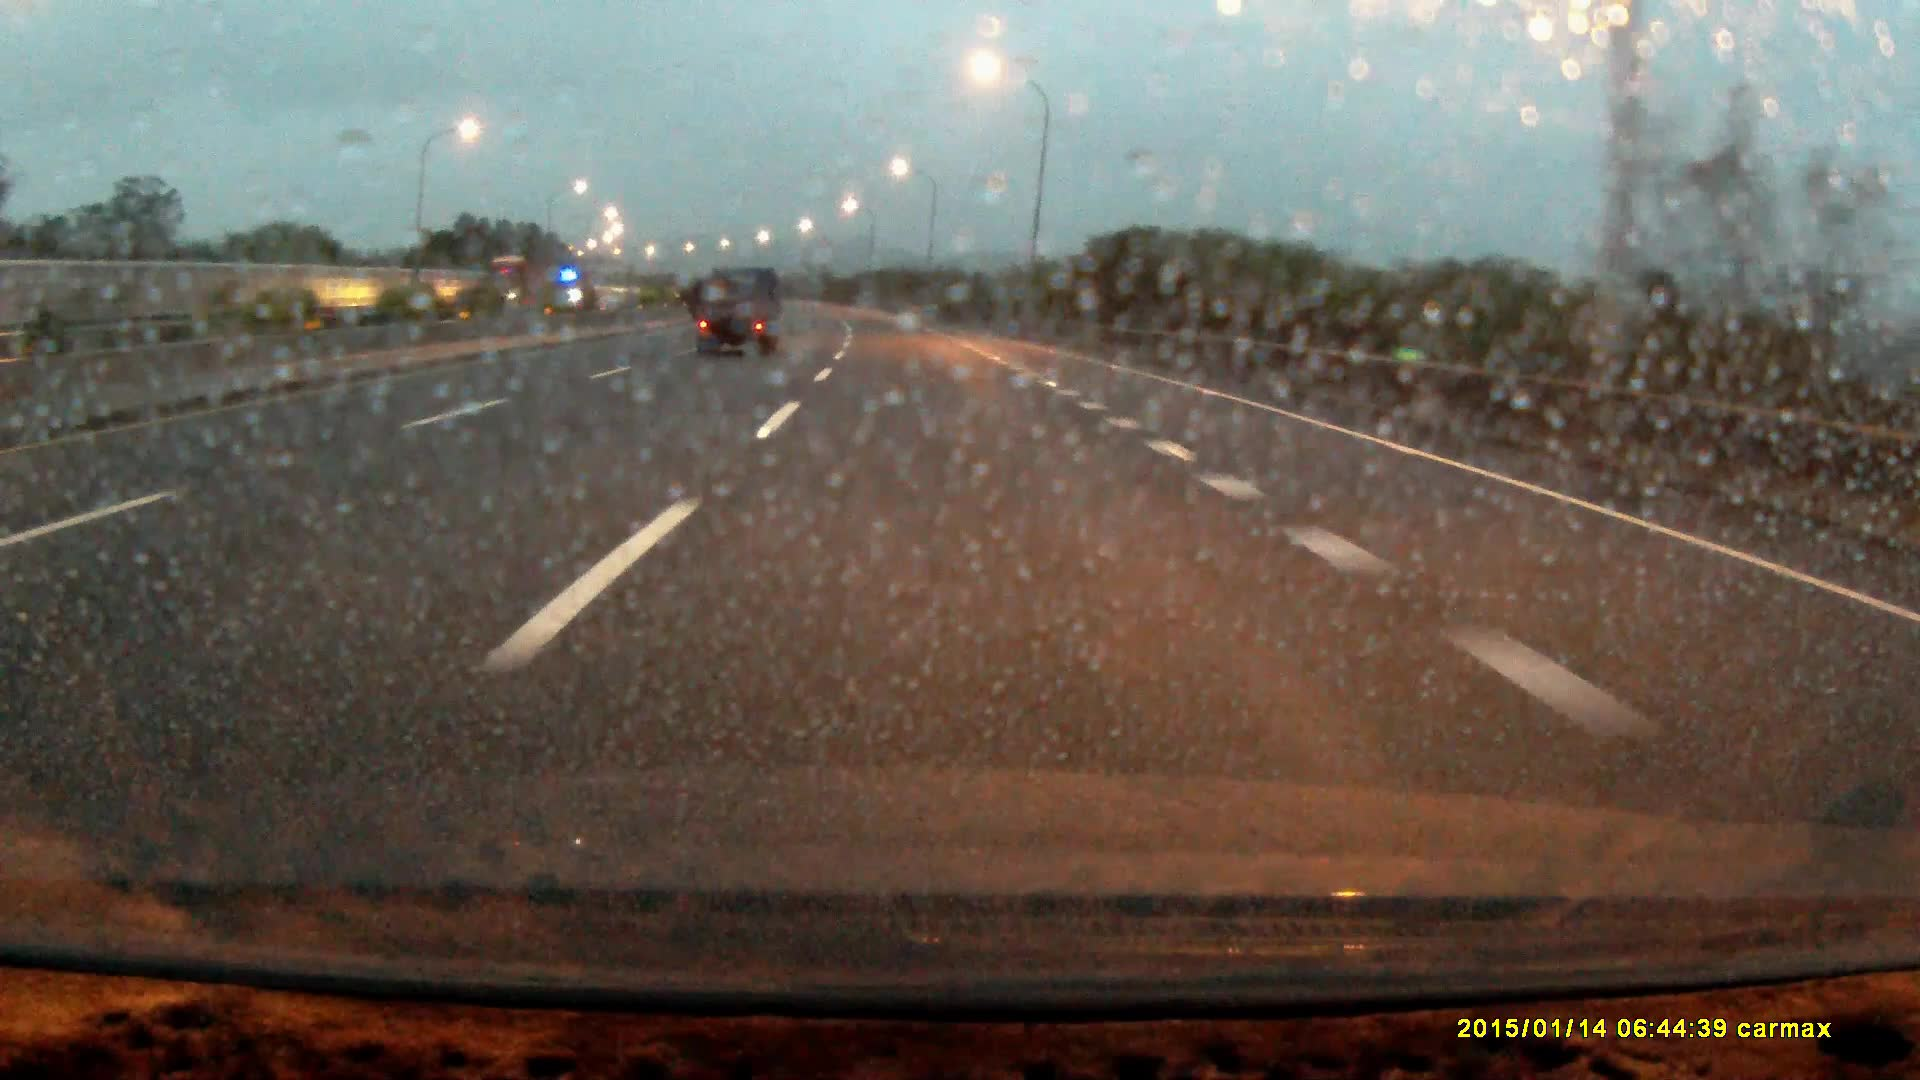vehicle: (699, 266, 779, 360), (484, 255, 545, 309)
